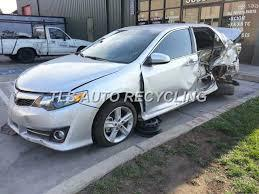doorouter-dent: (193, 29, 230, 85)
